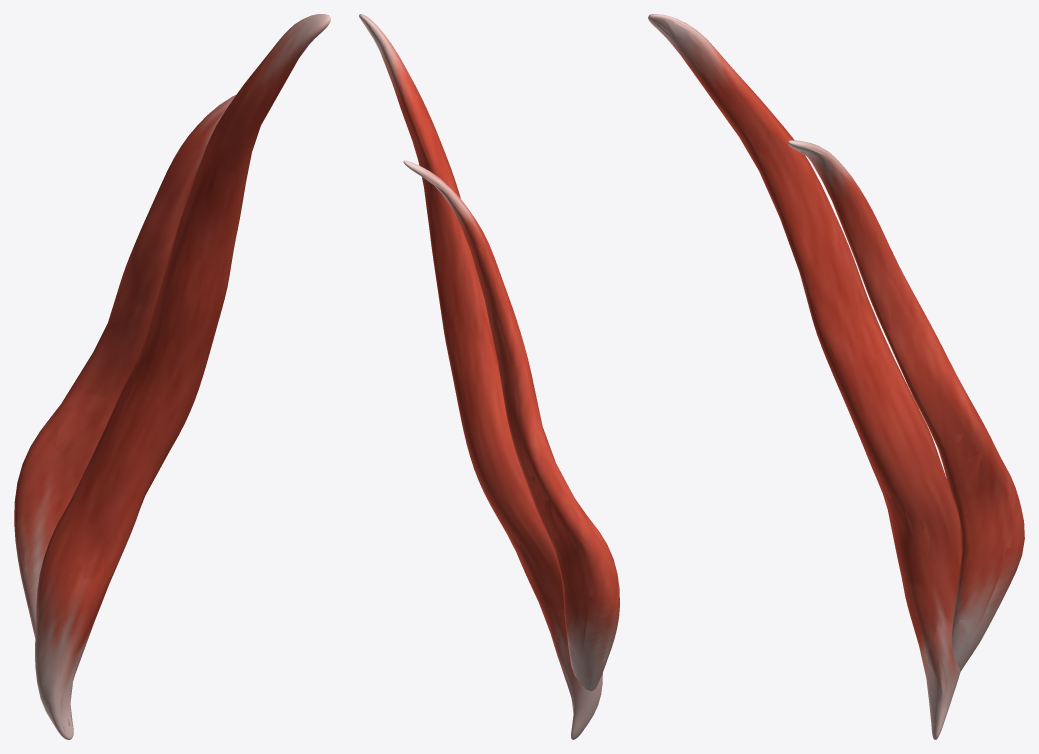
Rendered from R Omotransversarius.fbx.
3 renders of one model, left to right at view 1: azimuth 30°, elevation 25°; view 2: azimuth 210°, elevation 25°; view 3: azimuth 270°, elevation 25°, orthographic. The views are drawn at different scales.
Parts seen in each view (by area): view 1: R Omotransversarius, R Omotransversarius low; view 2: R Omotransversarius, R Omotransversarius low; view 3: R Omotransversarius, R Omotransversarius low.
Part boxes in pixels (left/top/right/bottom): R Omotransversarius: left=14, top=14, right=330, bottom=739; R Omotransversarius low: left=17, top=40, right=309, bottom=736; R Omotransversarius: left=359, top=14, right=619, bottom=739; R Omotransversarius low: left=362, top=21, right=618, bottom=736; R Omotransversarius: left=648, top=14, right=1024, bottom=739; R Omotransversarius low: left=652, top=19, right=1022, bottom=732.
Size of the model in its own units: 18.15 by 88.4 by 38.74.
